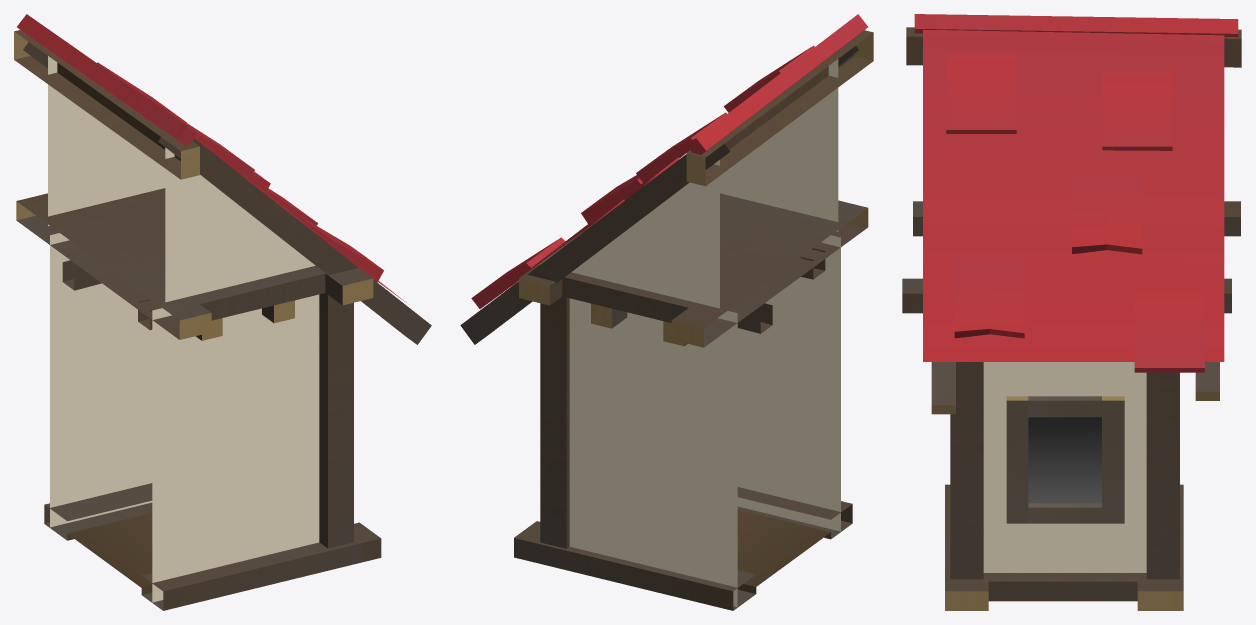
Rendered from House_Piece_3A.fbx.
3 views of the same model, side by side, from view 1: azimuth 30°, elevation 25°; view 2: azimuth 150°, elevation 25°; view 3: azimuth 270°, elevation 25° (orthographic).
Visible parts, largest first — view 1: polySurface9701; view 2: polySurface9701; view 3: polySurface9701.
Part boxes in pixels (x1=…): polySurface9701: x1=14, y1=14, x2=431, y2=610; polySurface9701: x1=460, y1=14, x2=873, y2=610; polySurface9701: x1=902, y1=14, x2=1241, y2=610.
Bounding box in the file's own units: 206 × 364 × 226.
